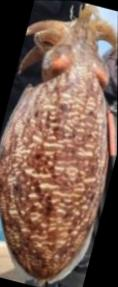Cephalopod: (0, 5, 118, 287)
